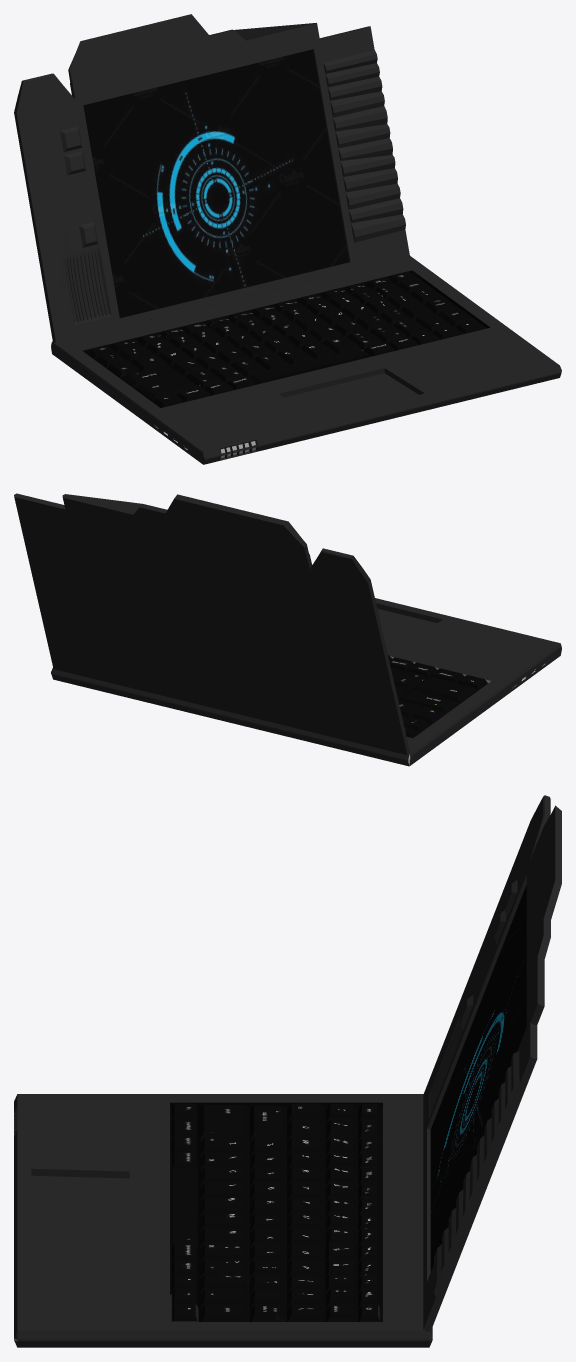
File: laptop.fbx
The picture shows the model from 3 angles, top to bottom: view 1: azimuth 30°, elevation 25°; view 2: azimuth 150°, elevation 25°; view 3: azimuth 270°, elevation 25°; orthographic projection. The views are drawn at different scales.
Visible parts, largest first — view 1: pCylinder11; view 2: pCylinder11; view 3: pCylinder11.
Boxes of the visible parts, left/top/right/bottom form: pCylinder11: left=14, top=14, right=561, bottom=464; pCylinder11: left=14, top=493, right=561, bottom=766; pCylinder11: left=14, top=795, right=561, bottom=1347.
Bounding box in the file's own units: 6.74 × 4.68 × 6.54.
8 materials, 2 textured.
